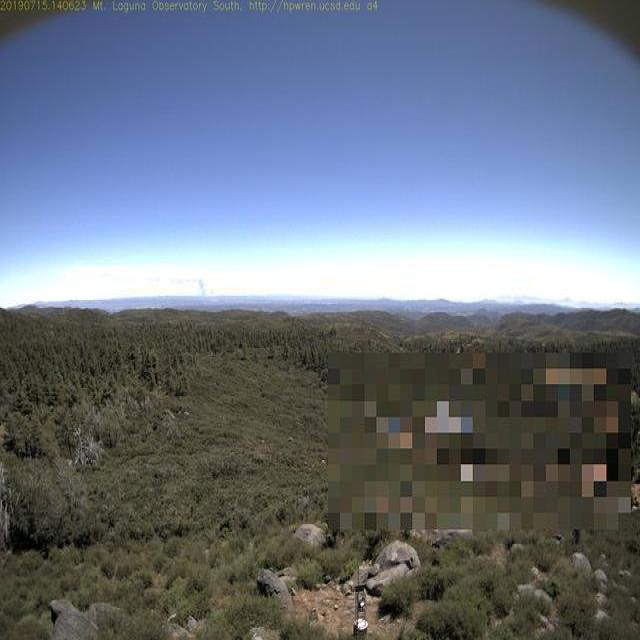smoke: (190, 272, 214, 297)
